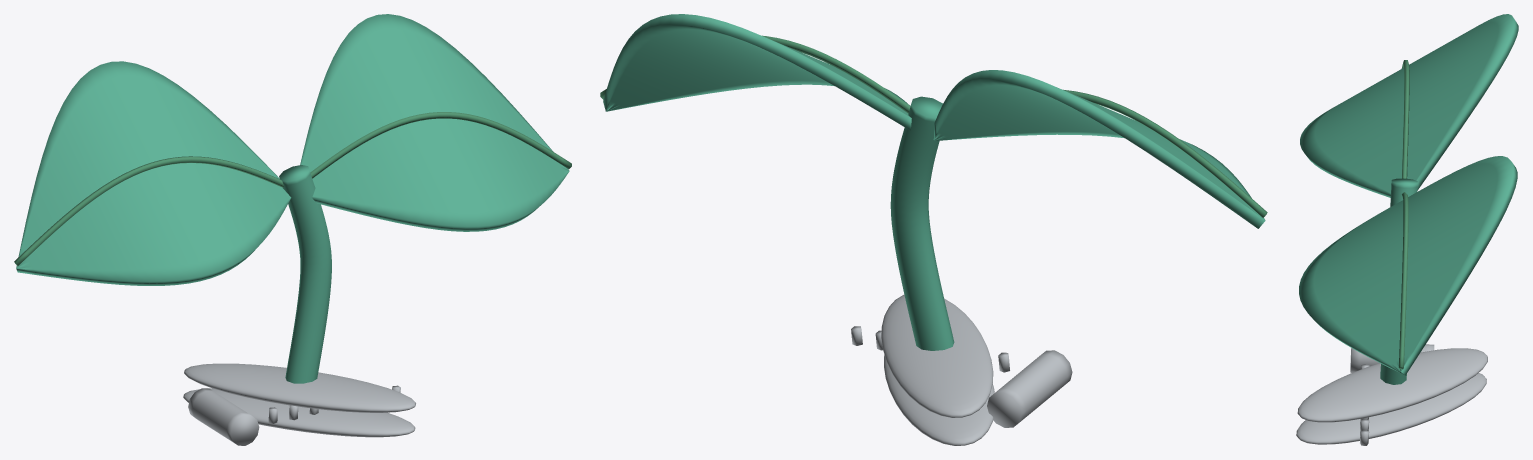
File: Masculine-flow-ears251-sprout.glb
3 renders of one model, left to right at view 1: azimuth 30°, elevation 25°; view 2: azimuth 150°, elevation 25°; view 3: azimuth 270°, elevation 25°, orthographic. The views are drawn at different scales.
Visible parts, largest first — view 1: 226 extra / Accessory / mint226, 226 extra / Sprout / clip silver235, 226 extra / Sprout / leaf vein235; view 2: 226 extra / Accessory / mint226, 226 extra / Sprout / clip silver235, 226 extra / Sprout / leaf vein235; view 3: 226 extra / Accessory / mint226, 226 extra / Sprout / clip silver235, 226 extra / Sprout / leaf vein235.
Boxes of the visible parts, x1,y1,x2,y2 form: 226 extra / Accessory / mint226: (16,14,569,383); 226 extra / Sprout / clip silver235: (183,363,415,445); 226 extra / Sprout / leaf vein235: (14,112,571,265); 226 extra / Accessory / mint226: (603,14,1265,350); 226 extra / Sprout / clip silver235: (851,295,1072,445); 226 extra / Sprout / leaf vein235: (600,35,1267,217); 226 extra / Accessory / mint226: (1299,14,1518,384); 226 extra / Sprout / clip silver235: (1296,344,1487,445); 226 extra / Sprout / leaf vein235: (1398,60,1409,369).
Bounding box in the file's own units: 0.2711 × 0.1609 × 0.0968.
